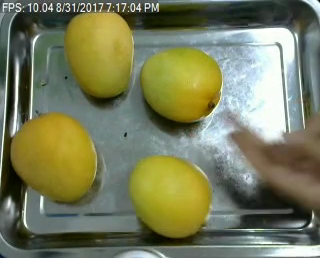Mango: (11, 111, 96, 202), (132, 156, 212, 240), (139, 46, 221, 123), (67, 10, 134, 98)
